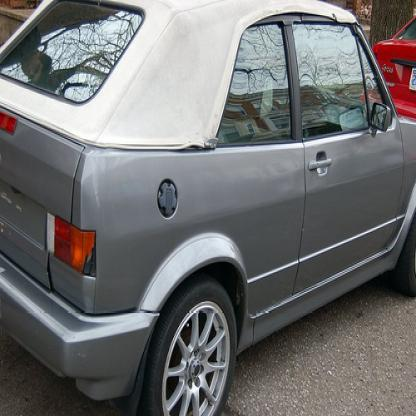car: (0, 0, 415, 415), (358, 0, 415, 123)
